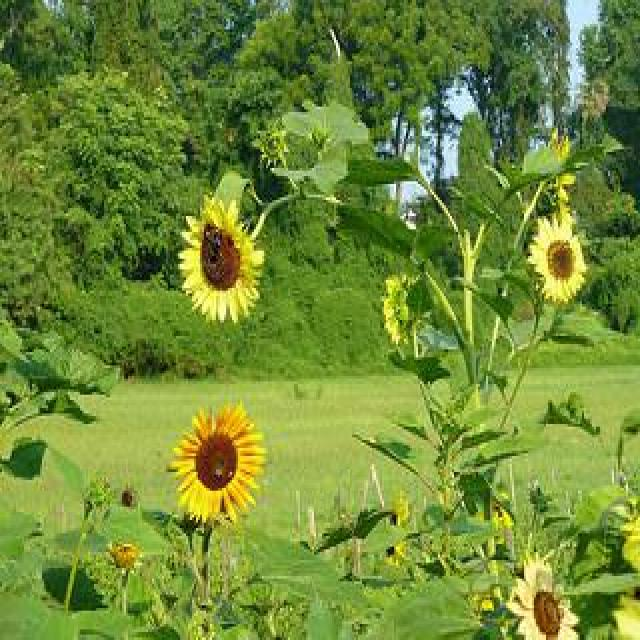sunflower: (173, 403, 263, 525), (181, 200, 259, 320), (510, 554, 578, 640), (528, 219, 586, 304)
